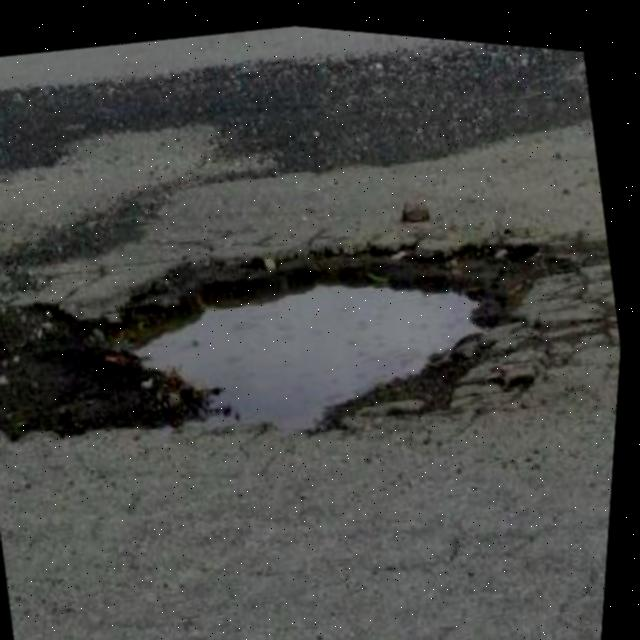Pothole: (77, 165, 576, 483)
